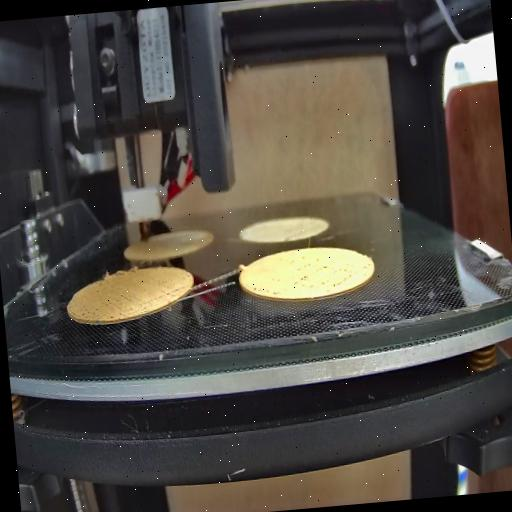under_extrusion: (289, 254, 356, 294), (79, 286, 135, 320), (142, 284, 184, 310), (251, 278, 280, 302)
